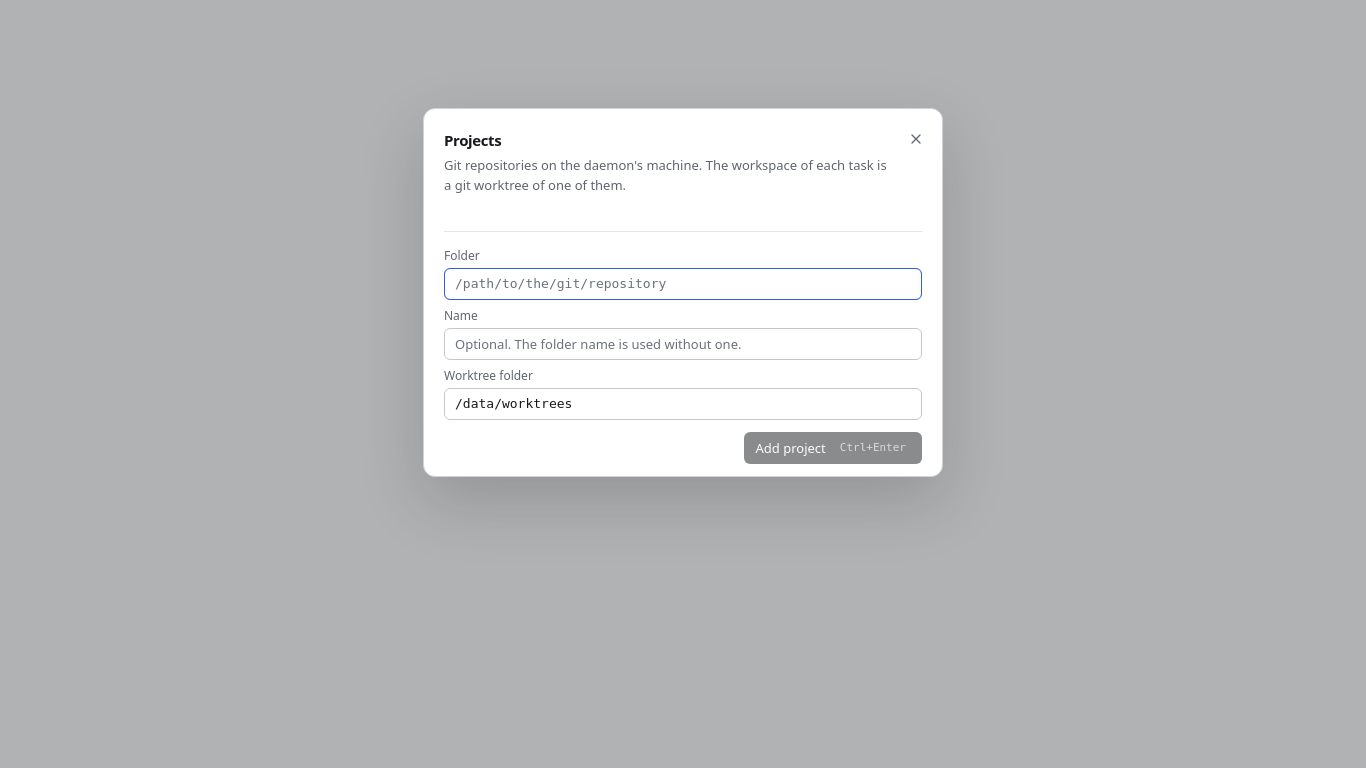
RepoPanel worktree folder › sends a changed folder, then goes back to the default
Type "/work/web" into the field named "Project folder".
click(683, 284); type("/work/web")  # box [444, 268, 922, 300]
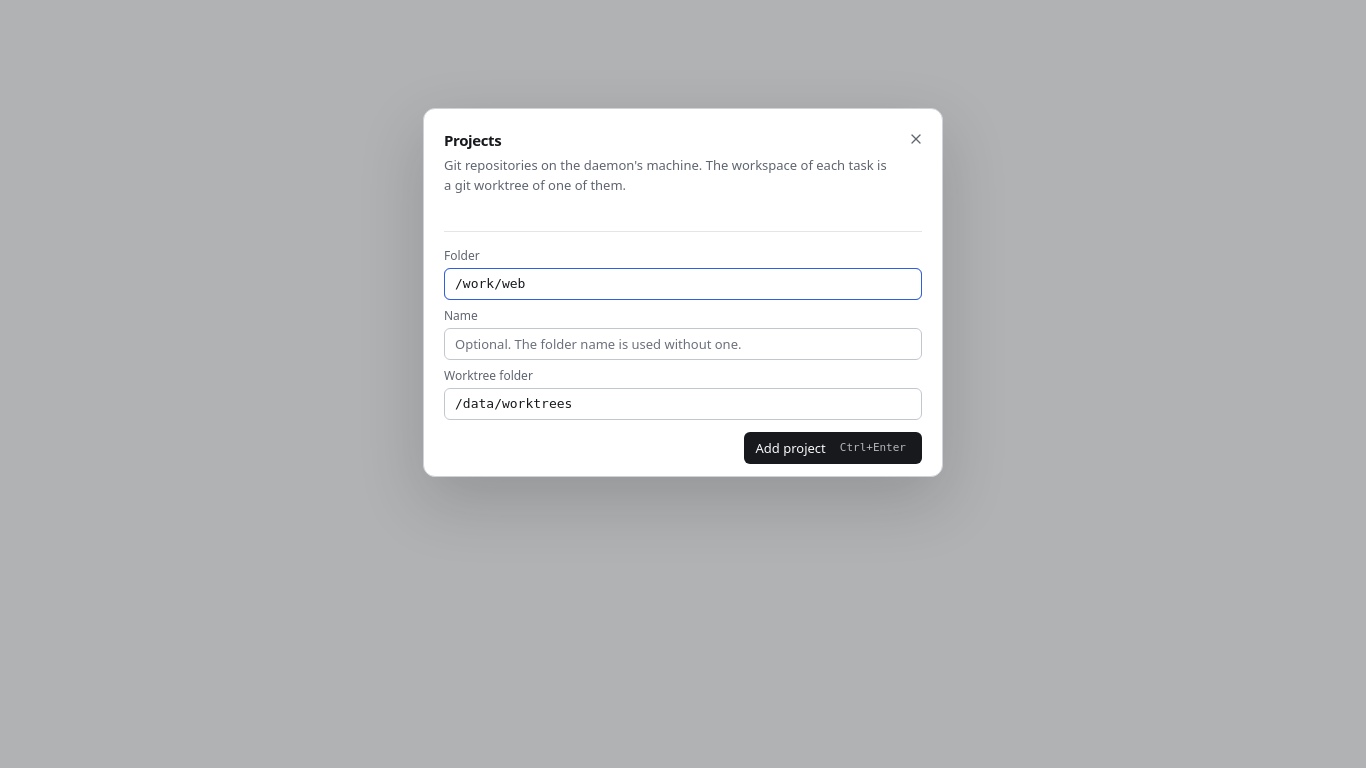
Replace the text in the field named "worktree folder" with "/trees/web" at {"x": 683, "y": 404}, box [444, 388, 922, 420]
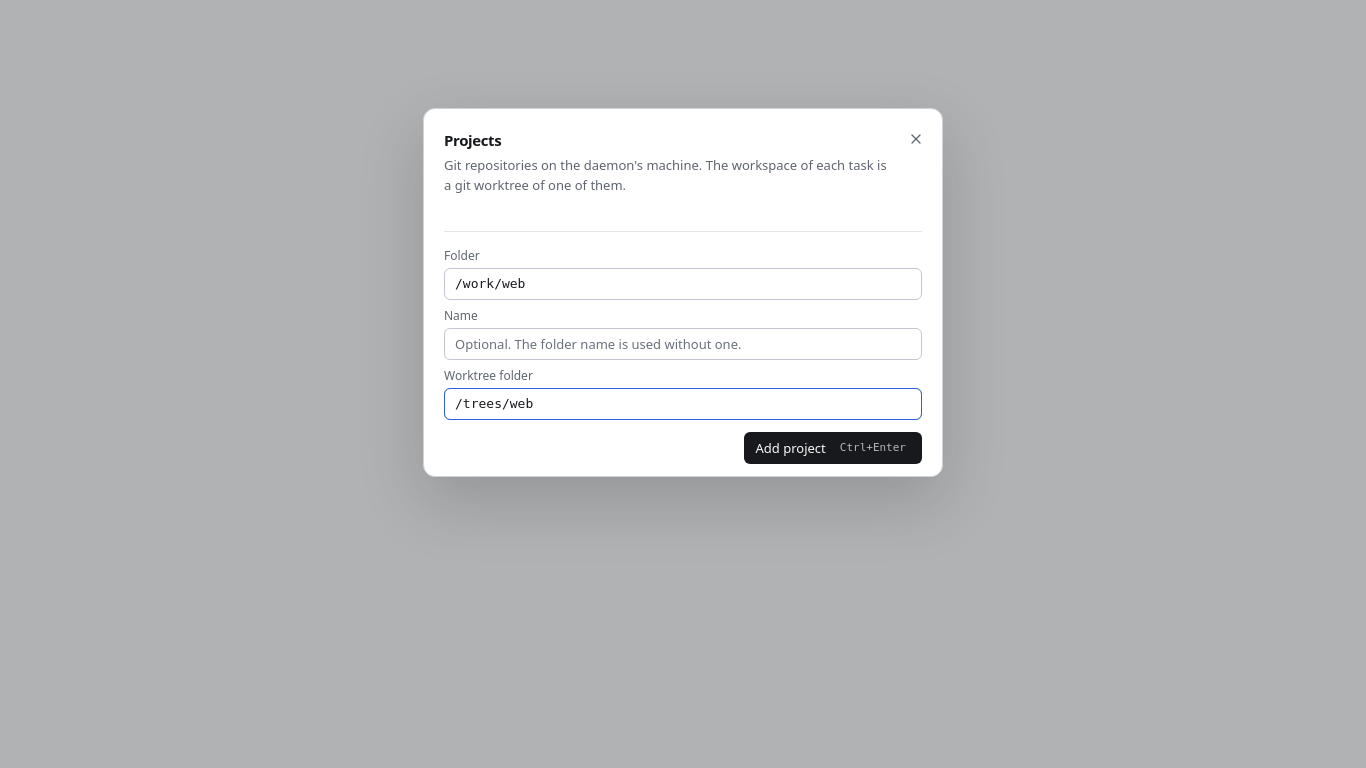
Click the button "Add project Ctrl+Enter".
click(833, 448)  # box [744, 432, 922, 464]
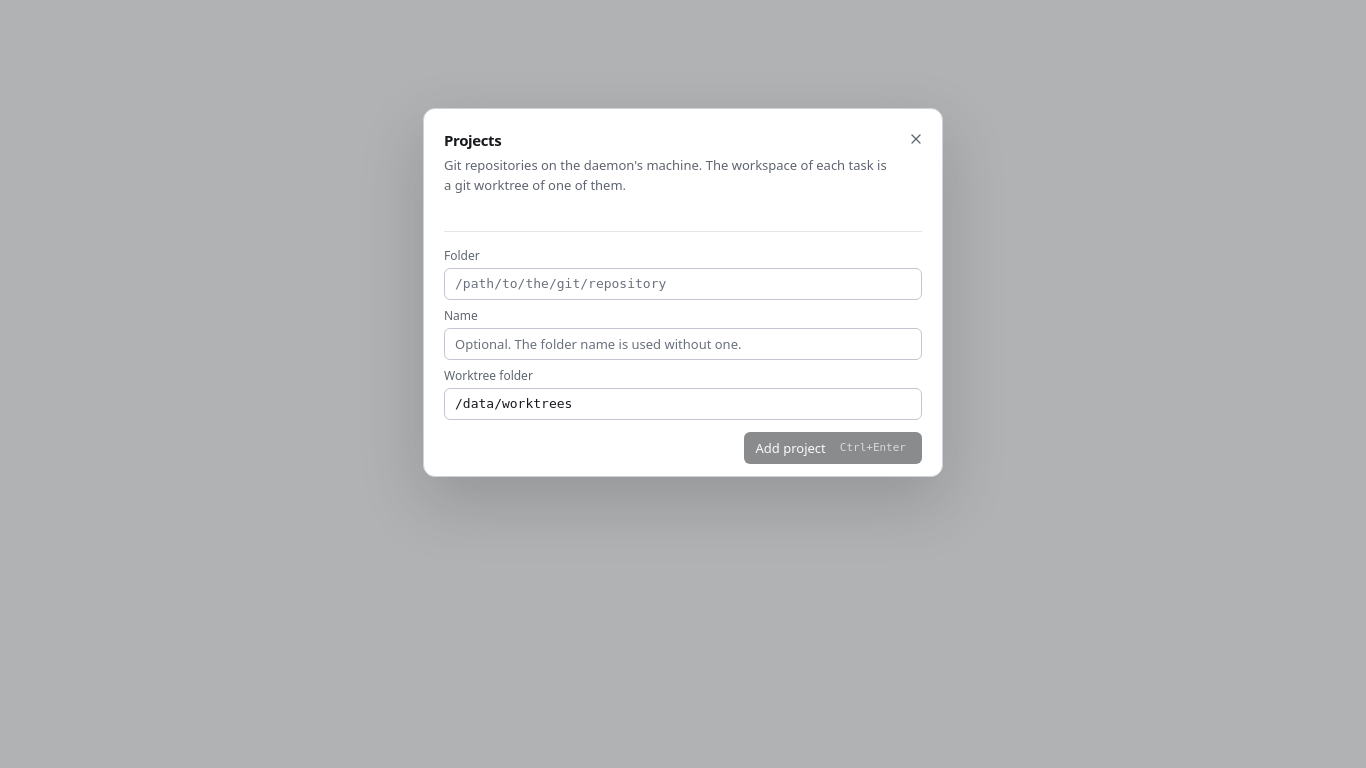
Expected: the field named "worktree folder" holds "/data/worktrees", [444, 388, 922, 420]
